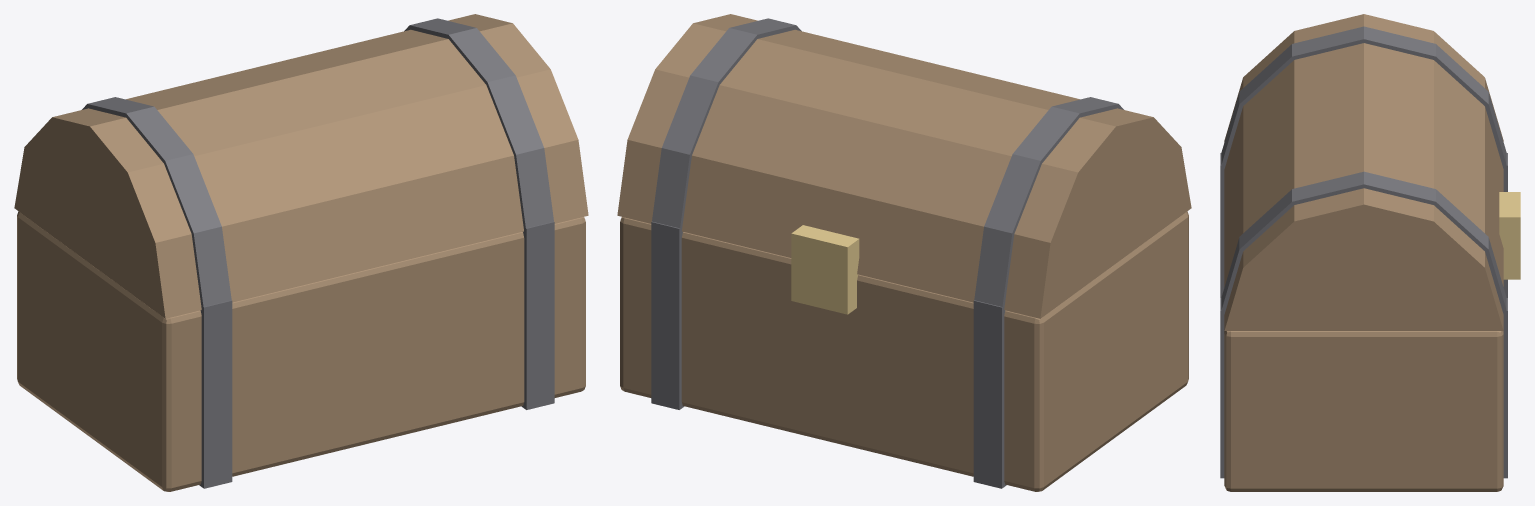
Rendered from chest.glb.
The picture shows the model from 3 angles, left to right: view 1: azimuth 30°, elevation 25°; view 2: azimuth 150°, elevation 25°; view 3: azimuth 270°, elevation 25°; orthographic projection. The views are drawn at different scales.
Parts seen in each view (by area): view 1: chest; view 2: chest; view 3: chest.
Boxes of the visible parts, box(x1,y1,x2,y2) form: chest: box(14, 14, 588, 491); chest: box(617, 14, 1191, 491); chest: box(1220, 14, 1520, 491).
Bounding box in the file's own units: 1.05 × 0.755 × 0.7.
